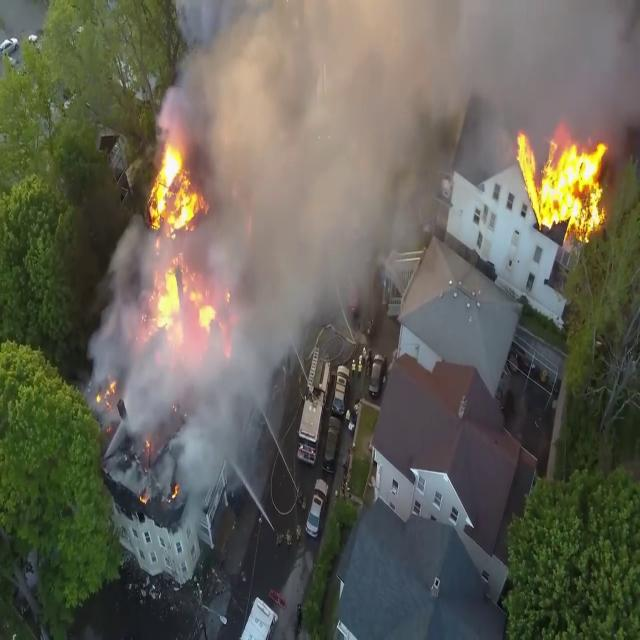Fire: (139, 138, 221, 354), (514, 122, 614, 245)
Smoke: (100, 0, 640, 443)
